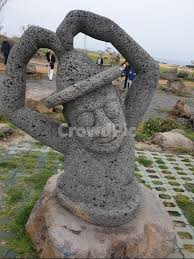Stone Statue: (1, 8, 171, 236)
